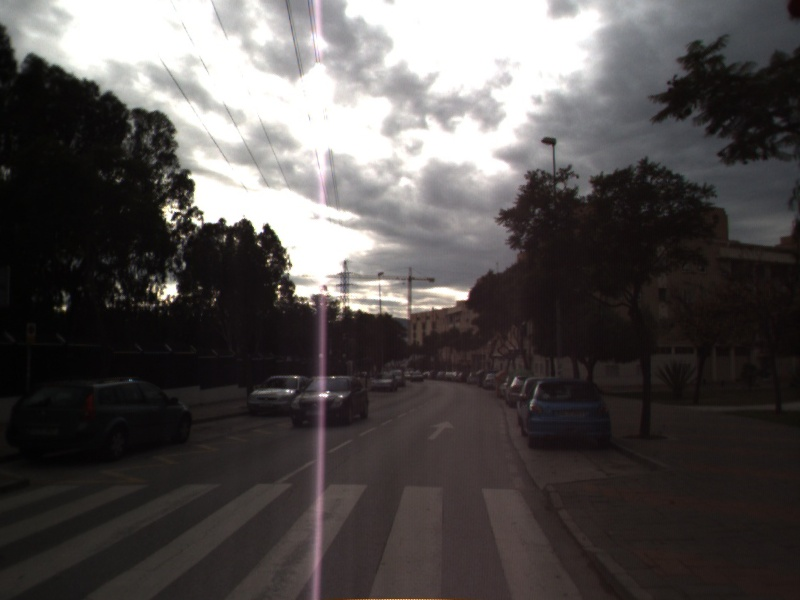STRAIGHT: (425, 419, 458, 442)
